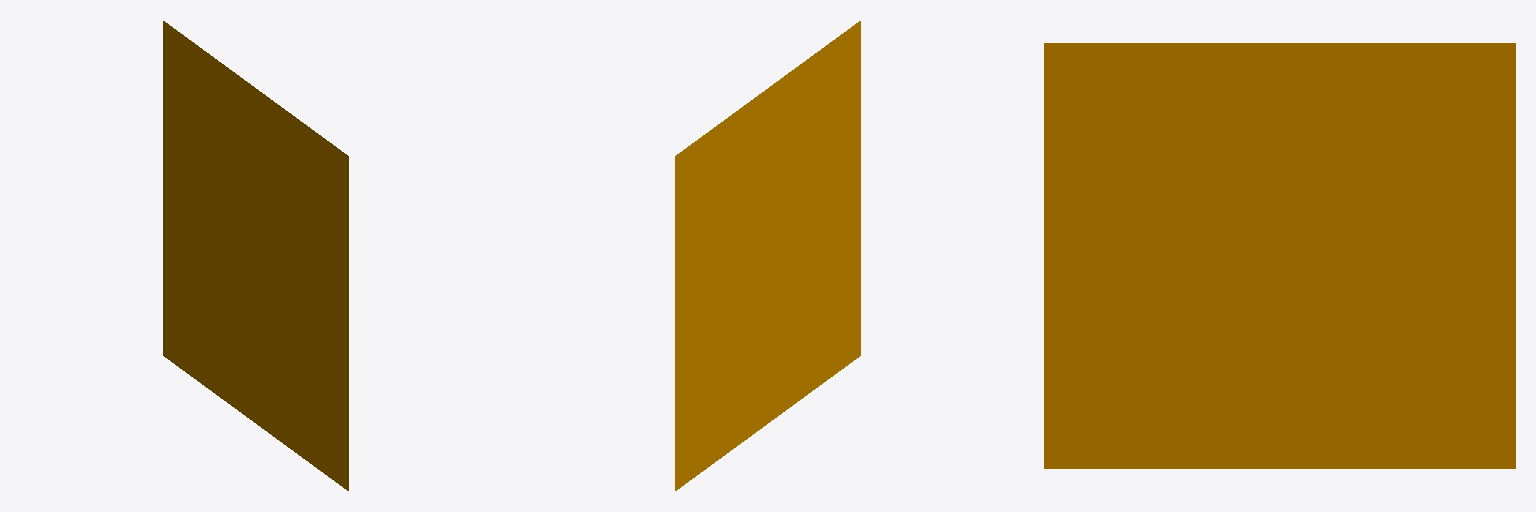
URDF robot description (ARtag):
<robot name="ARtag">
  <link name="ARtag">
    <inertial>
      <origin xyz="1 0.12 -0.5" /> 
      <mass value="0.1" />
      <inertia  ixx="1.0" ixy="0.0"  ixz="0.0"  iyy="1.0"  iyz="0.0"  izz="1.0" />
    </inertial>
    <visual>
      <origin xyz="1 0.12 0" rpy="3.1416 1.57079633 0"/>
      <geometry>
        <box size="0.1 0.1 0" />

      </geometry>
    </visual>
    <collision>
      <origin xyz="1 0.12 0" rpy="3.1416 1.57079633 0"/>
      <geometry>
        <box size="0.1 0.1 0" />
      </geometry>
    </collision>
  </link>
  <gazebo reference="ARtag">
    <material>Hector/ARtag</material>
    <turnGravityOff>true</turnGravityOff>
    <static>true</static>
  </gazebo>
</robot>

--- Render facts (derived) ---
3 views of the same robot in one strip: view 1: azimuth 30°, elevation 25°; view 2: azimuth 150°, elevation 25°; view 3: azimuth 270°, elevation 25° (orthographic).
Robot: ARtag — 1 links, 0 joints (none); root link ARtag; default pose: every joint at zero.
Visible links, largest first — view 1: ARtag; view 2: ARtag; view 3: ARtag.
Link boxes in pixels (bbox=[...]): ARtag: bbox=[163, 21, 348, 490]; ARtag: bbox=[675, 21, 860, 490]; ARtag: bbox=[1044, 43, 1515, 468].
Bounding box of the posed robot: 0 × 0.1 × 0.1 m (x, y, z).
Geometry: primitives only (box / cylinder / sphere), no mesh files.
